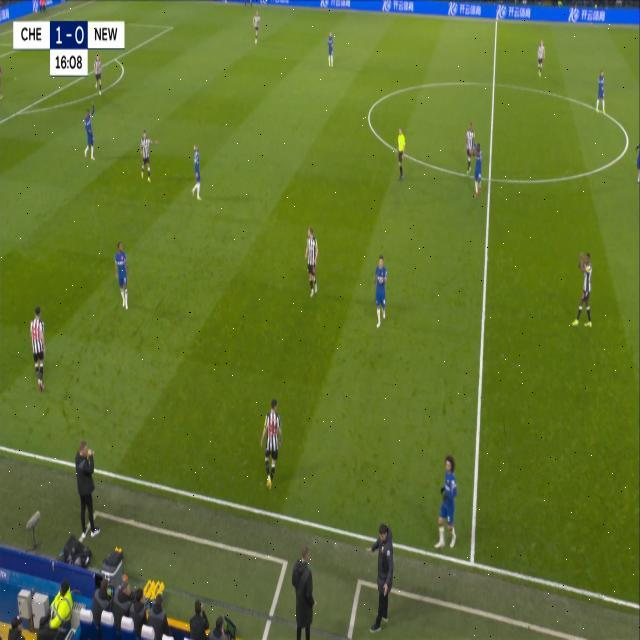Chelsea: (433, 449, 461, 554), (369, 249, 391, 331), (112, 235, 132, 313), (81, 100, 98, 160), (189, 137, 204, 205), (472, 139, 486, 199), (594, 64, 608, 120), (324, 26, 336, 70)
Newcastle: (258, 394, 285, 494), (568, 243, 596, 334), (27, 299, 49, 397), (302, 222, 322, 303), (137, 122, 160, 186), (92, 51, 104, 101), (534, 34, 546, 82), (463, 120, 474, 160), (250, 5, 259, 46)
Refree: (394, 122, 408, 183)
